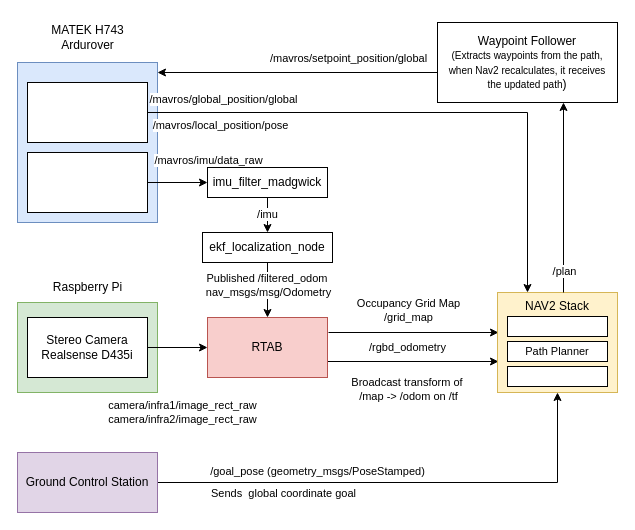
Some shapes in this 635 by 530 pixel diagram are drawn without their labels. Each missing label, with the centre of its shape:
"Controller" belongs at point (557, 376).
"Global Planner" belongs at point (557, 326).
"IMU MPU6000" belongs at point (87, 182).
"RTK GPS" belongs at point (87, 112).
